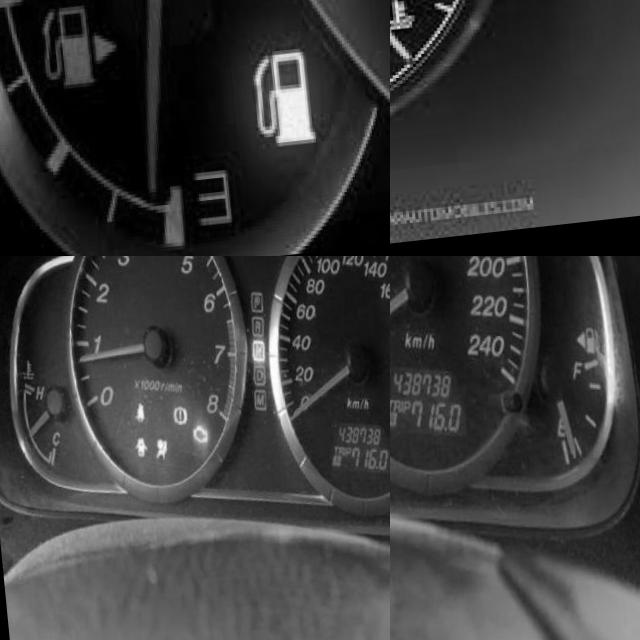High Engine Coolant Temperature: (390, 1, 405, 40)
Seat Belt: (128, 406, 140, 427)
